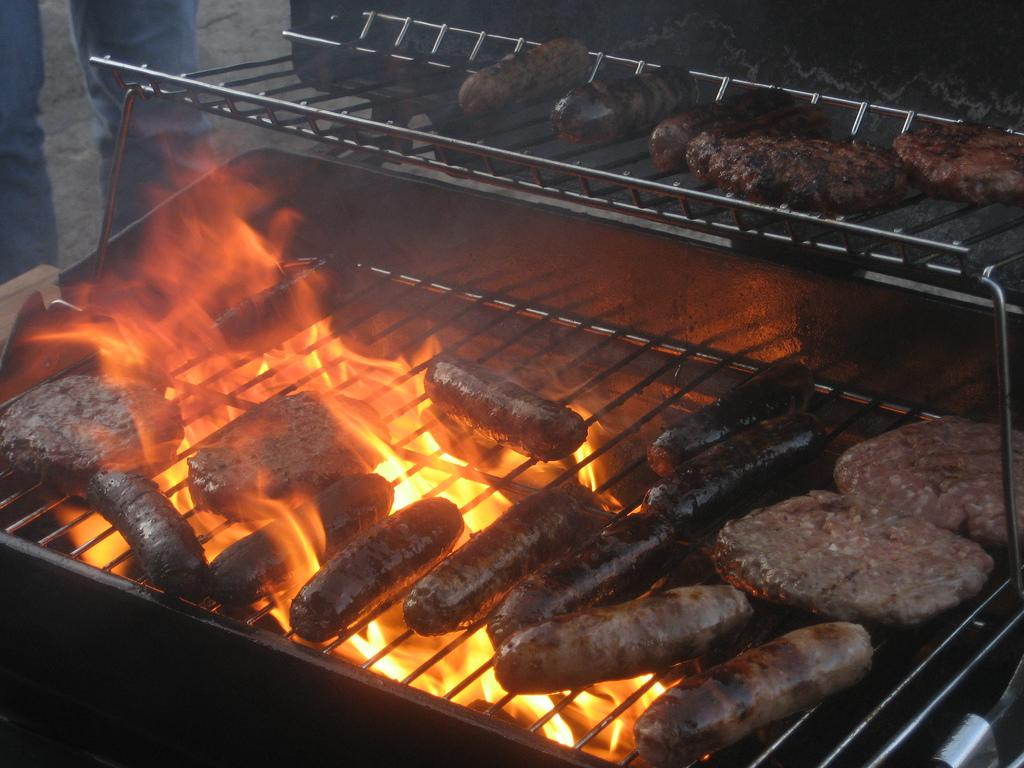fire: (378, 428, 466, 500), (328, 354, 396, 418), (440, 636, 494, 694)
